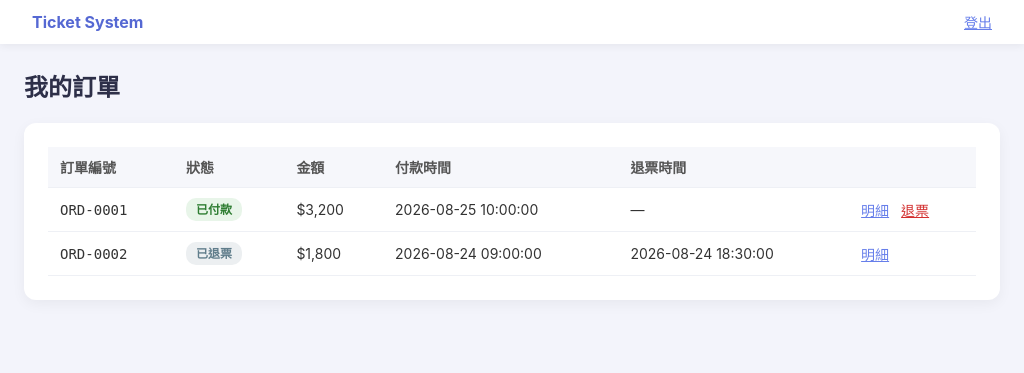
Orders 退票 › 退票失敗時顯示後端錯誤訊息，狀態維持已付款
expect the text "ORD-0001" is shown: met, box [60, 202, 127, 218]
Click the button "退票". click: (915, 210)
box: [901, 200, 929, 220]
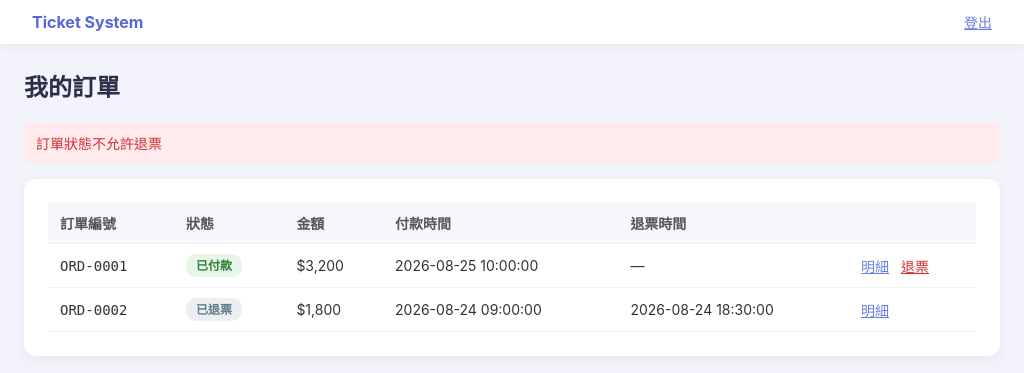
expect the text "已付款" is shown: met, box [186, 254, 242, 277]
expect the text "訂單狀態不允許退票" is shown: met, box [24, 123, 1000, 163]
